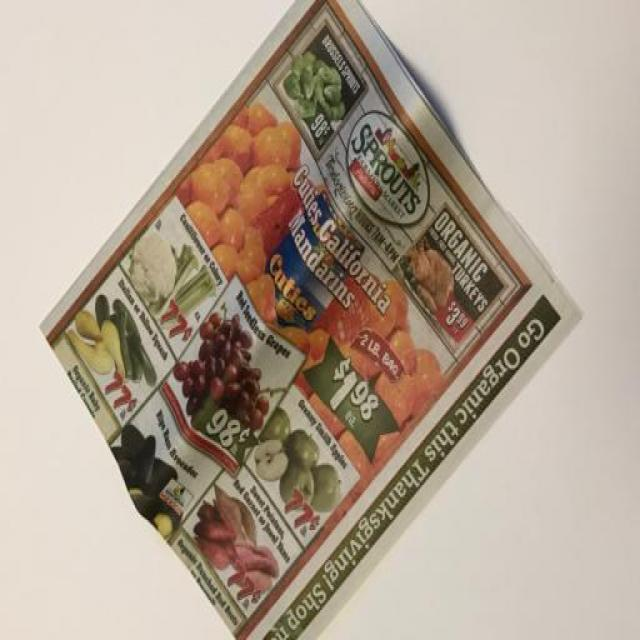paper: (48, 1, 576, 611)
